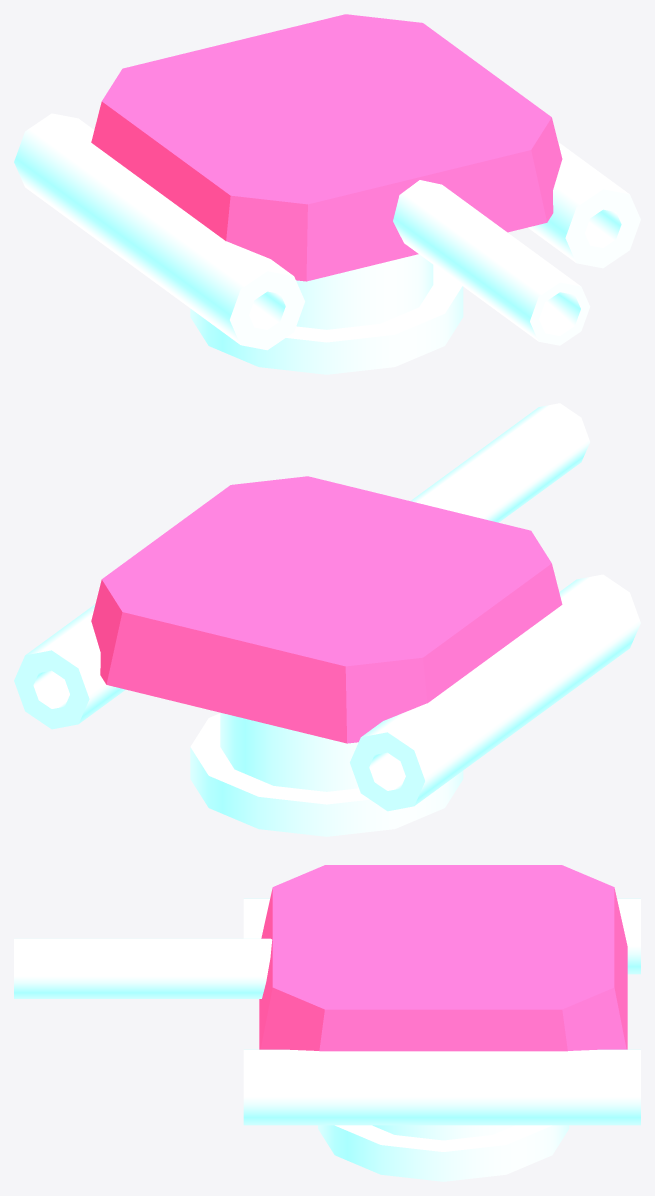
File: Canon.fbx
3 views of the same model, one above another, from view 1: azimuth 30°, elevation 25°; view 2: azimuth 150°, elevation 25°; view 3: azimuth 270°, elevation 25° (orthographic). The views are drawn at different scales.
Parts seen in each view (by area): view 1: Cube.049, Cylinder.053, Cylinder.054, Cylinder.051, Cylinder.052; view 2: Cube.049, Cylinder.053, Cylinder.054, Cylinder.051, Cylinder.052; view 3: Cube.049, Cylinder.052, Cylinder.051, Cylinder.054, Cylinder.053.
Boxes of the visible parts, x1=… form: Cube.049: x1=91, y1=14, x2=562, y2=281; Cylinder.053: x1=14, y1=113, x2=304, y2=350; Cylinder.054: x1=190, y1=254, x2=463, y2=374; Cylinder.051: x1=393, y1=180, x2=590, y2=345; Cylinder.052: x1=528, y1=142, x2=640, y2=268; Cube.049: x1=91, y1=476, x2=562, y2=743; Cylinder.053: x1=350, y1=574, x2=640, y2=811; Cylinder.054: x1=190, y1=712, x2=463, y2=836; Cylinder.051: x1=410, y1=403, x2=589, y2=522; Cylinder.052: x1=14, y1=604, x2=125, y2=729; Cube.049: x1=259, y1=865, x2=627, y2=1051; Cylinder.052: x1=243, y1=1049, x2=640, y2=1125; Cylinder.051: x1=14, y1=938, x2=272, y2=998; Cylinder.054: x1=318, y1=1125, x2=569, y2=1181; Cylinder.053: x1=243, y1=898, x2=640, y2=974.
Bounding box in the file's own units: 1.31 × 0.6307 × 1.87.
